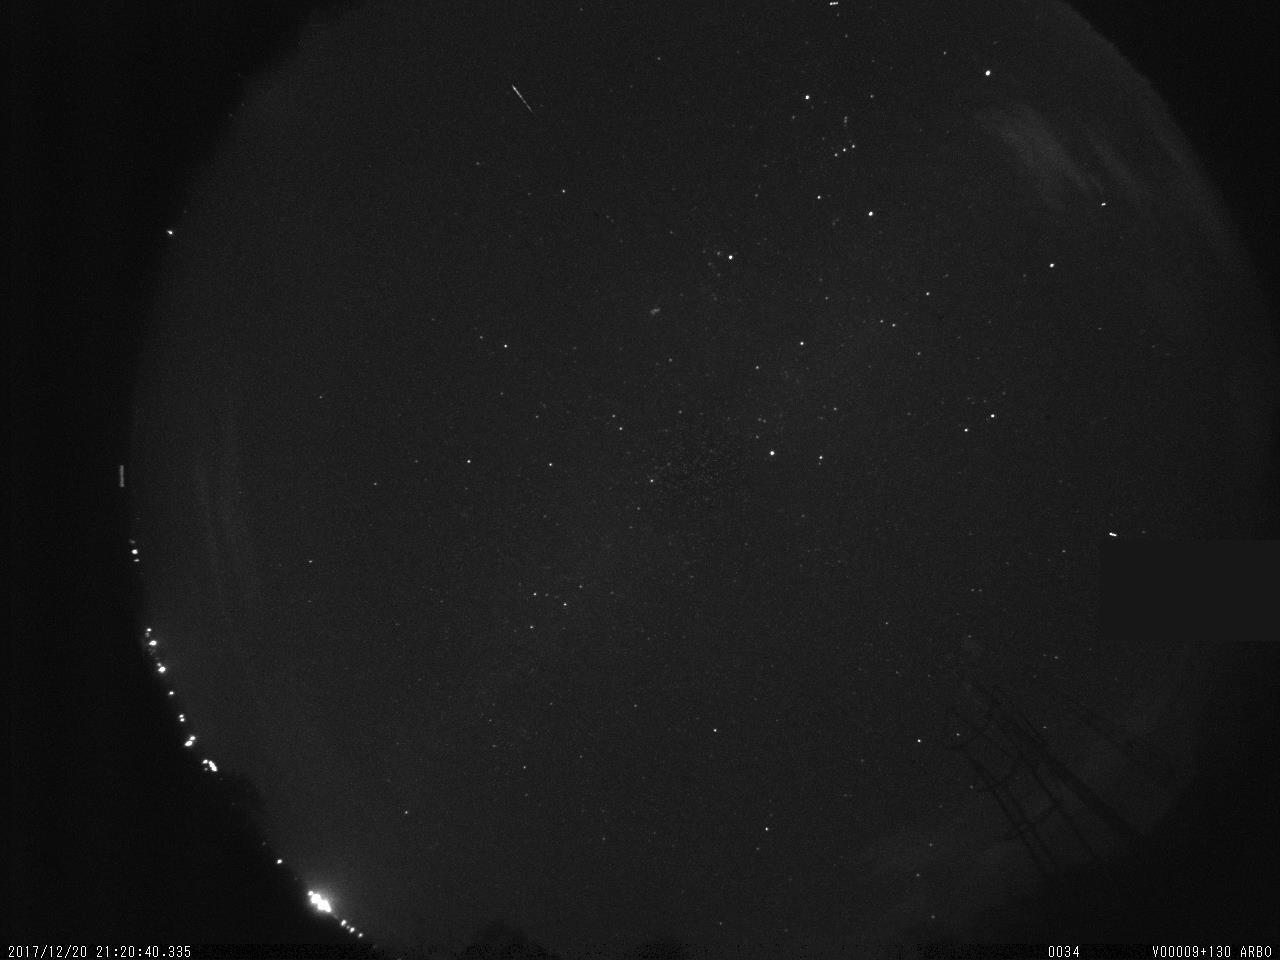meteor: (499, 77, 543, 124)
